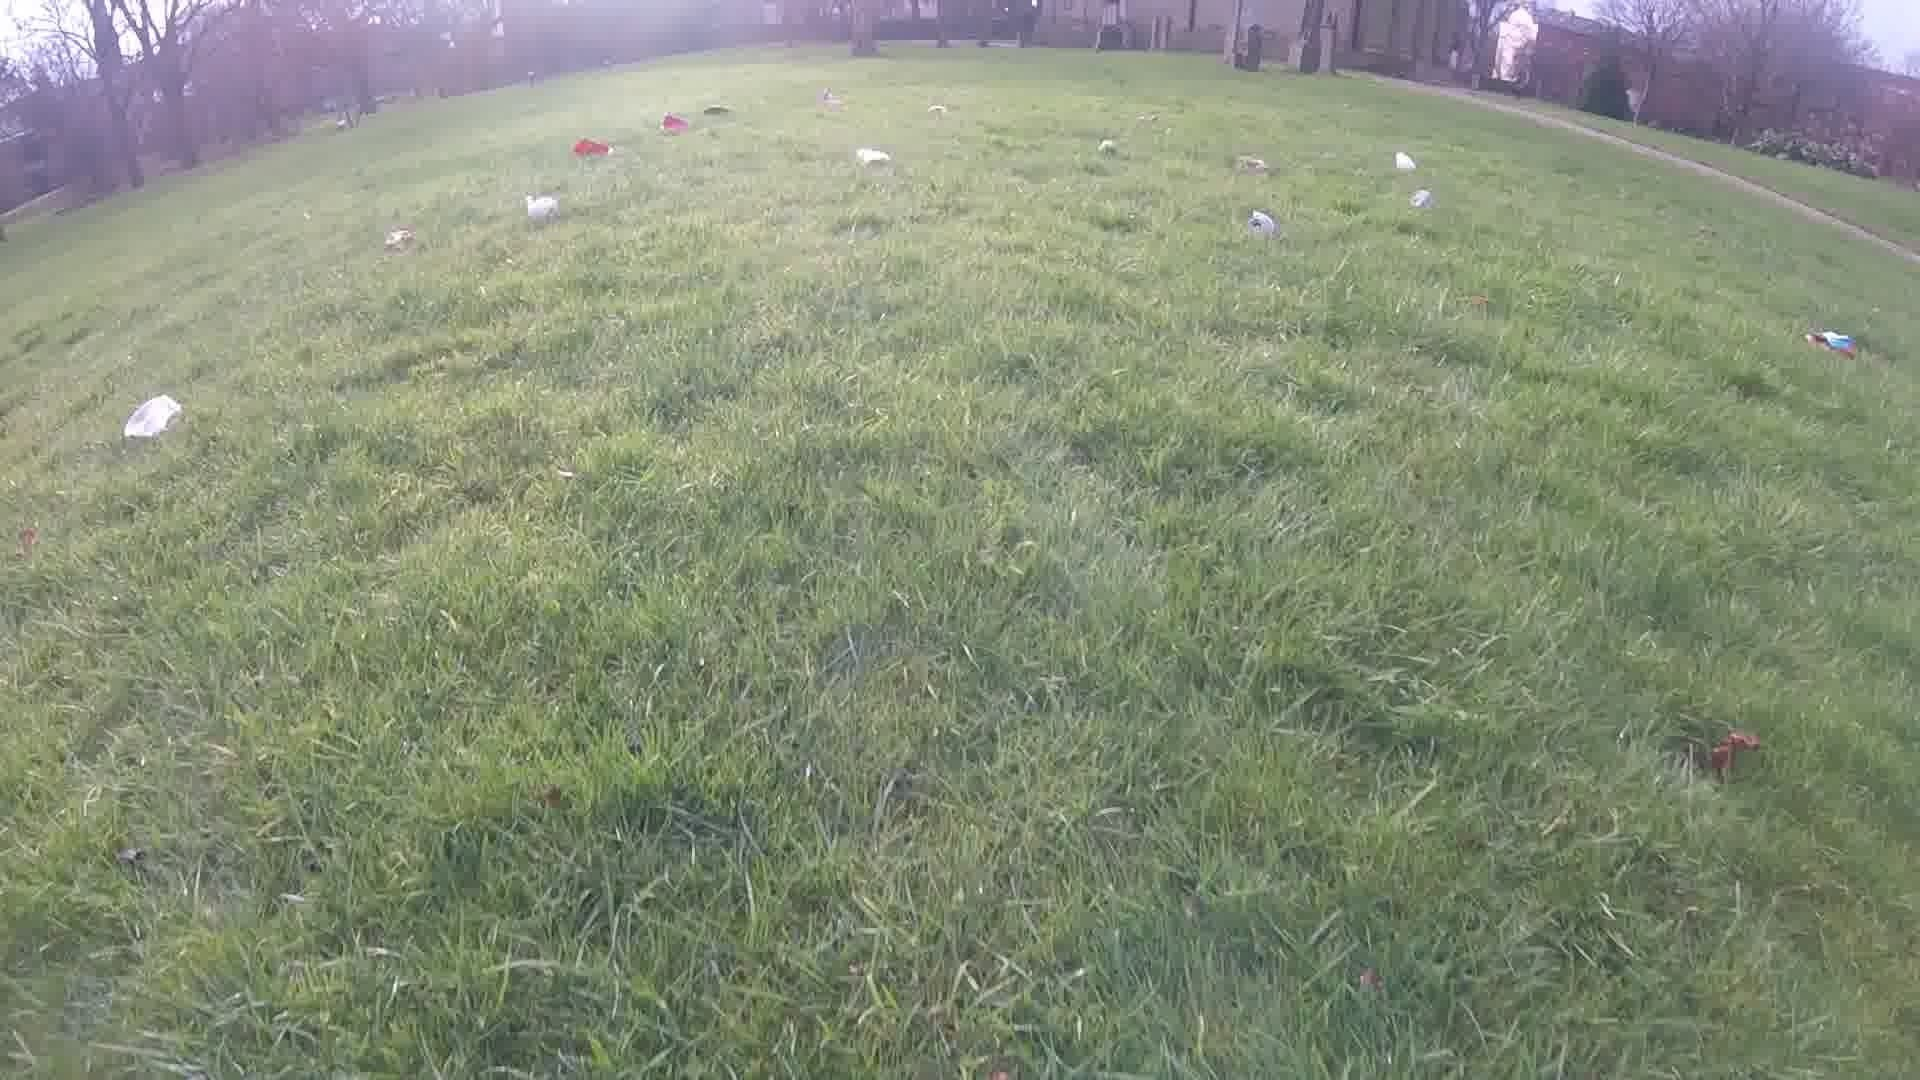litter: (123, 394, 181, 439), (1805, 324, 1855, 363), (521, 194, 556, 219), (1244, 214, 1275, 237), (857, 146, 891, 167), (571, 138, 613, 156), (1389, 153, 1419, 173), (1233, 154, 1265, 173), (1407, 189, 1433, 208), (658, 113, 691, 129), (385, 231, 411, 248), (1091, 140, 1116, 152), (702, 103, 728, 113), (822, 88, 837, 105), (920, 105, 945, 112)
